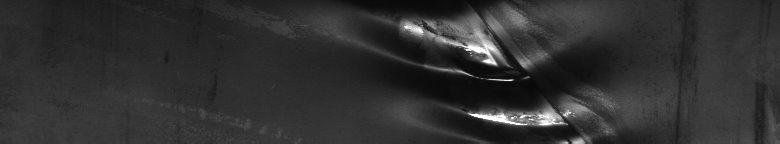ke: (337, 4, 680, 136)
